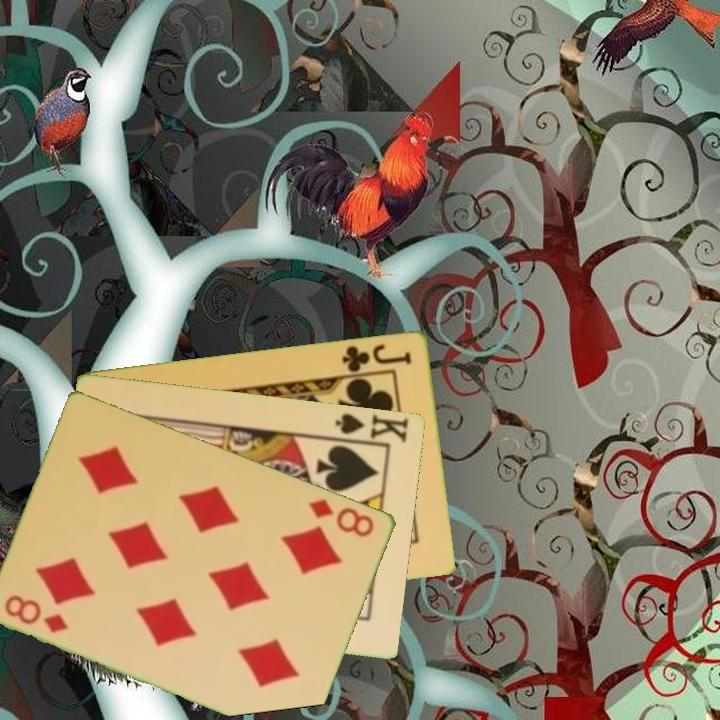8d: (306, 495, 378, 540), (1, 591, 72, 636)
Jc: (339, 340, 415, 375)
Ks: (329, 409, 412, 448)
